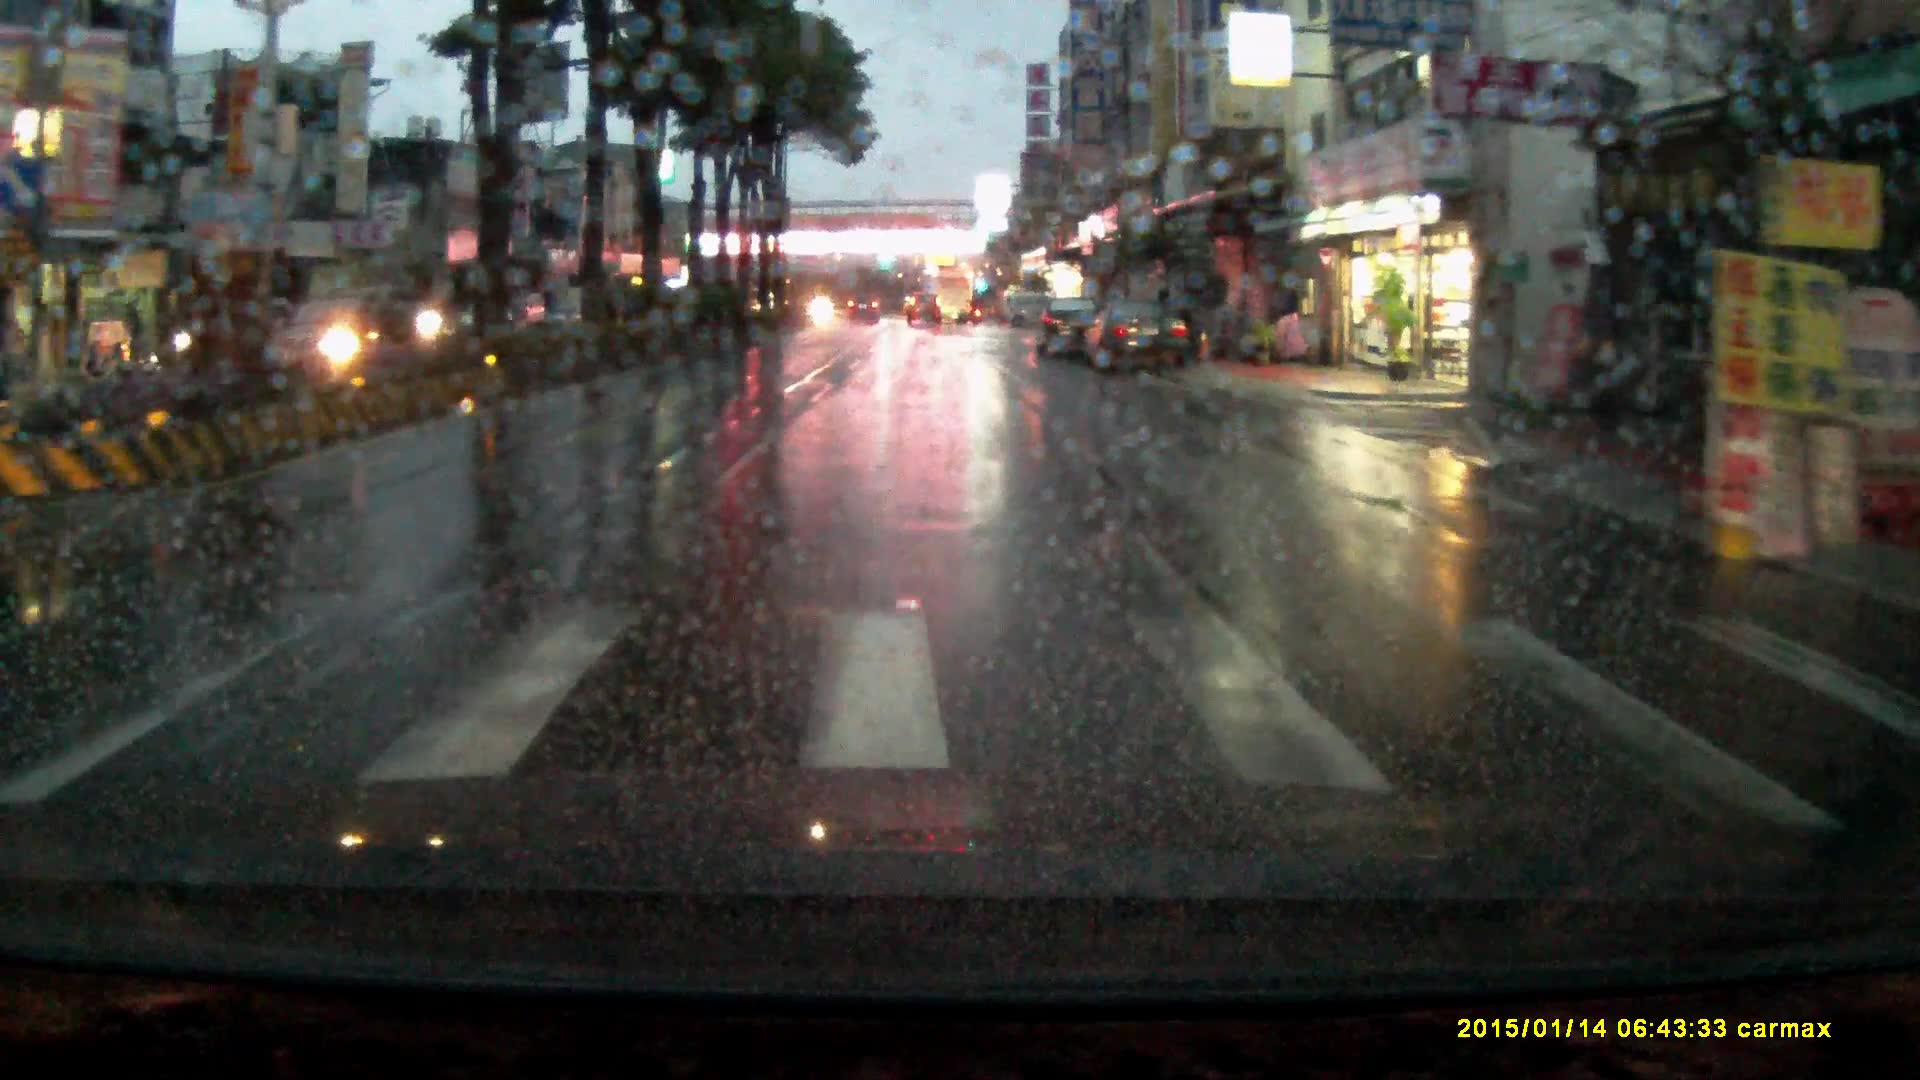rider: (406, 248, 482, 391)
vehicle: (273, 284, 439, 374), (1078, 300, 1192, 379), (189, 307, 263, 366), (1035, 298, 1099, 361), (920, 266, 974, 327), (907, 292, 943, 328), (848, 293, 880, 323)
